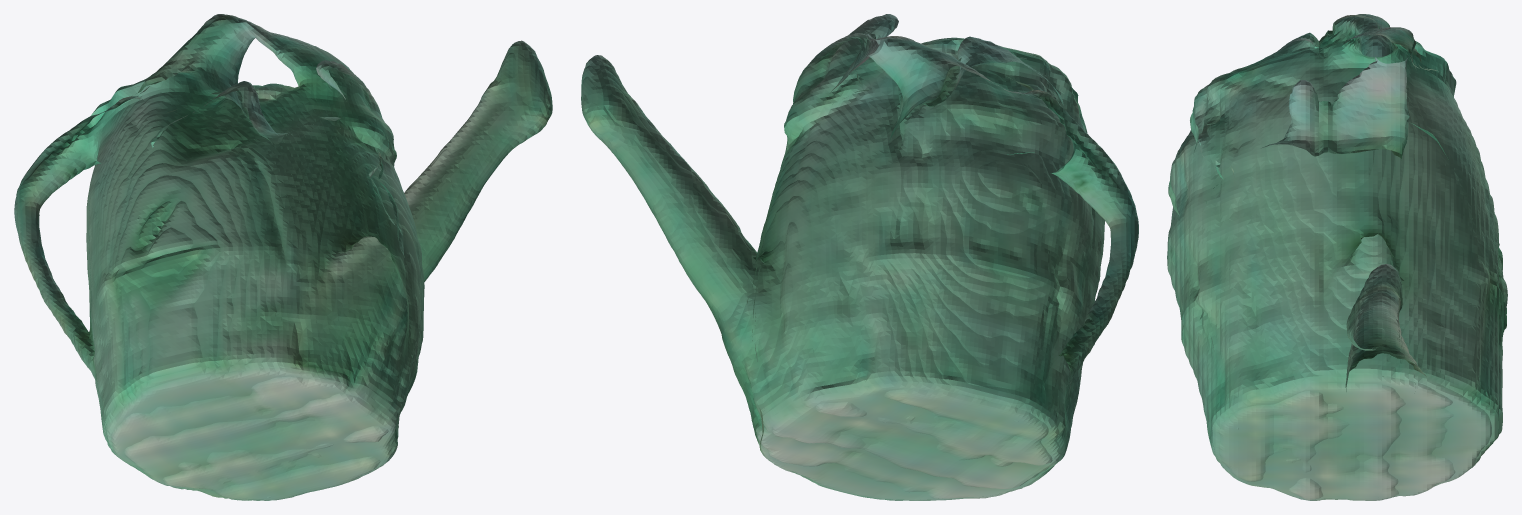
The picture shows the model from 3 angles, left to right: view 1: azimuth 30°, elevation 25°; view 2: azimuth 150°, elevation 25°; view 3: azimuth 270°, elevation 25°; orthographic projection. The views are drawn at different scales.
Parts seen in each view (by area): view 1: geometry_0; view 2: geometry_0; view 3: geometry_0.
Boxes of the visible parts, x1,y1,x2,y2 form: geometry_0: (14, 14, 552, 500); geometry_0: (581, 14, 1138, 500); geometry_0: (1167, 14, 1507, 500).
Size of the model in its own units: 1.6 by 1.19 by 0.8866.
